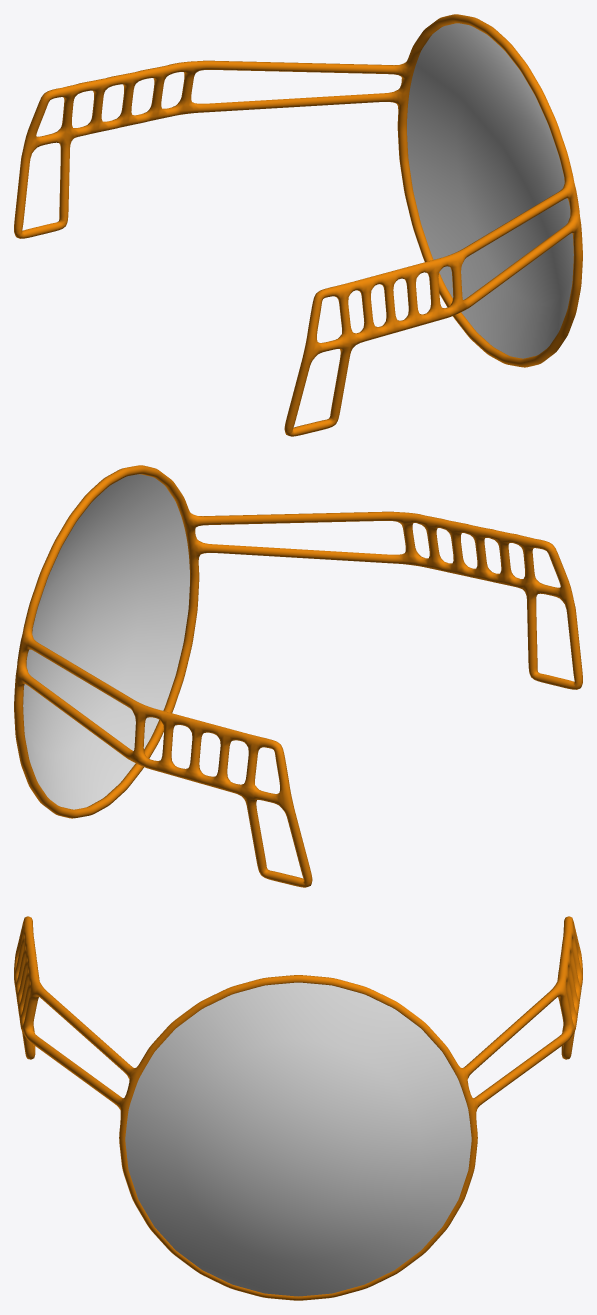
File: sunglass.fbx
3 renders of one model, top to bottom at view 1: azimuth 30°, elevation 25°; view 2: azimuth 150°, elevation 25°; view 3: azimuth 270°, elevation 25°, orthographic.
Visible parts, largest first — view 1: Sphere.001; view 2: Sphere.001; view 3: Sphere.001.
Boxes of the visible parts, left/top/right/bottom form: Sphere.001: left=14, top=14, right=582, bottom=436; Sphere.001: left=14, top=465, right=582, bottom=887; Sphere.001: left=14, top=916, right=582, bottom=1300.
Size of the model in its own units: 158 by 127 by 202.
